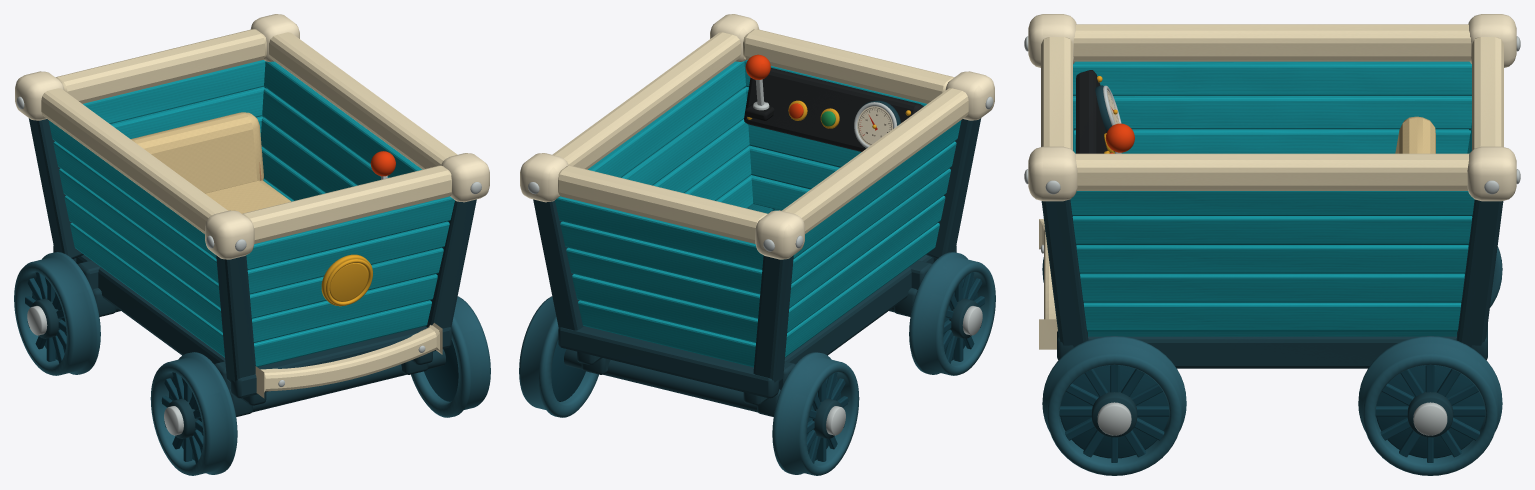
The model's file is Vehicle_Minecart_AzureLake_001.glb.
The picture shows the model from 3 angles, left to right: view 1: azimuth 30°, elevation 25°; view 2: azimuth 150°, elevation 25°; view 3: azimuth 270°, elevation 25°; orthographic projection. The views are drawn at different scales.
Parts seen in each view (by area): view 1: AzureLake_Body, AzureLake_Wheel_FL, AzureLake_Wheel_RL, AzureLake_Wheel_FR, AzureLake_Lever; view 2: AzureLake_Body, AzureLake_Wheel_FL, AzureLake_Wheel_RL, AzureLake_Wheel_RR, AzureLake_Lever; view 3: AzureLake_Body, AzureLake_Wheel_FR, AzureLake_Wheel_RR, AzureLake_Lever.
Part boxes in pixels (x1,y1,x2,y2): AzureLake_Body: [15, 14, 489, 416]; AzureLake_Wheel_FL: [150, 352, 237, 475]; AzureLake_Wheel_RL: [14, 252, 100, 375]; AzureLake_Wheel_FR: [411, 296, 490, 417]; AzureLake_Lever: [370, 151, 395, 179]; AzureLake_Body: [520, 14, 994, 416]; AzureLake_Wheel_FL: [909, 252, 995, 375]; AzureLake_Wheel_RL: [772, 352, 859, 475]; AzureLake_Wheel_RR: [519, 296, 598, 417]; AzureLake_Lever: [745, 54, 770, 110]; AzureLake_Body: [1024, 14, 1520, 368]; AzureLake_Wheel_FR: [1042, 336, 1186, 475]; AzureLake_Wheel_RR: [1358, 336, 1502, 475]; AzureLake_Lever: [1105, 123, 1134, 153].
Bounding box in the file's own units: 2.05 × 1.79 × 2.55.
1 material, 1 textured.
